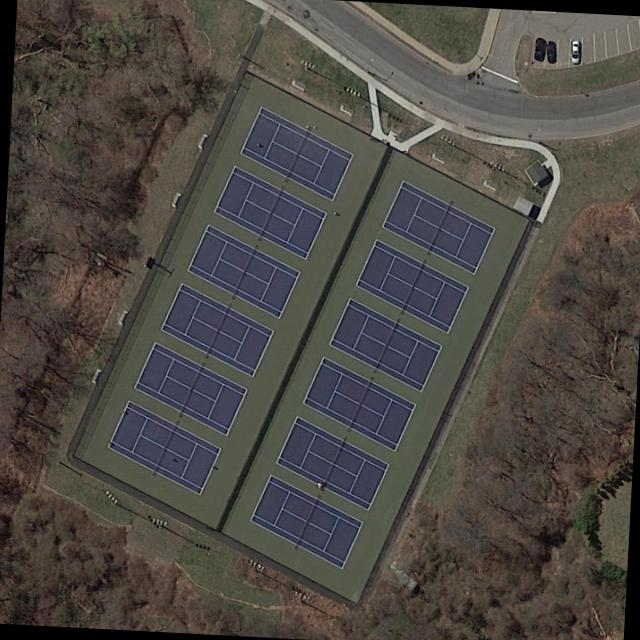small-vehicle: (568, 38, 584, 66), (531, 36, 545, 64), (546, 41, 556, 65)
